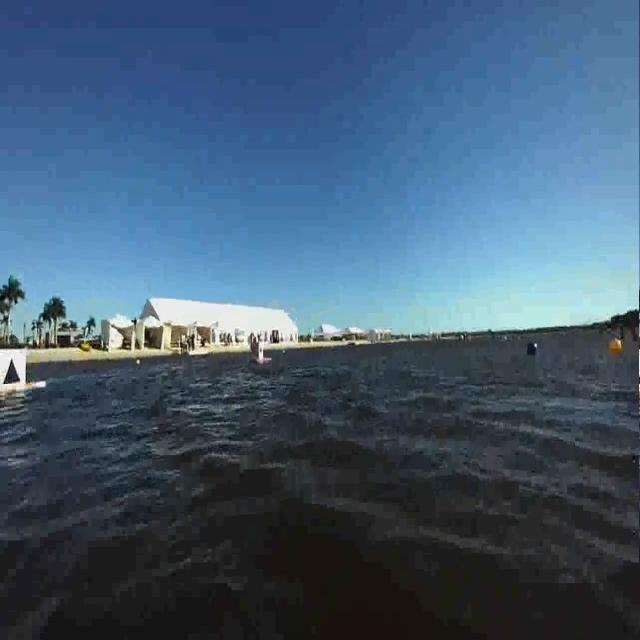blue-buoy: (527, 340, 539, 355)
yellow-buoy: (608, 338, 624, 358)
